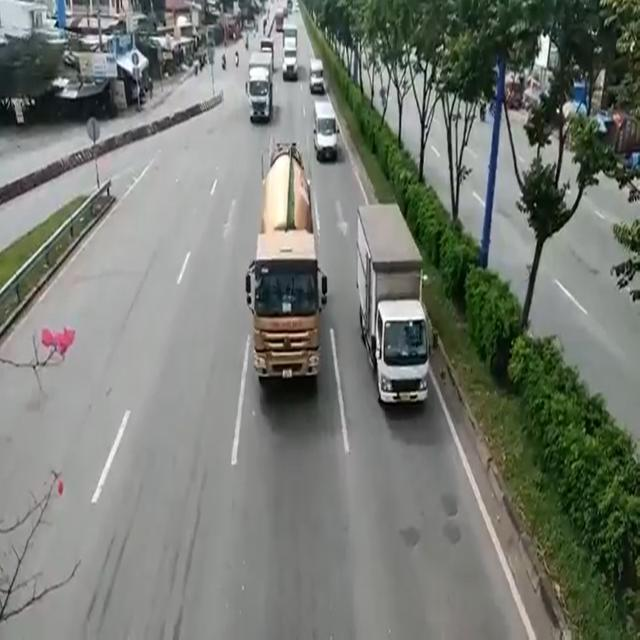truck: (356, 208, 427, 414), (260, 149, 321, 386), (248, 54, 272, 123), (314, 101, 338, 162)
